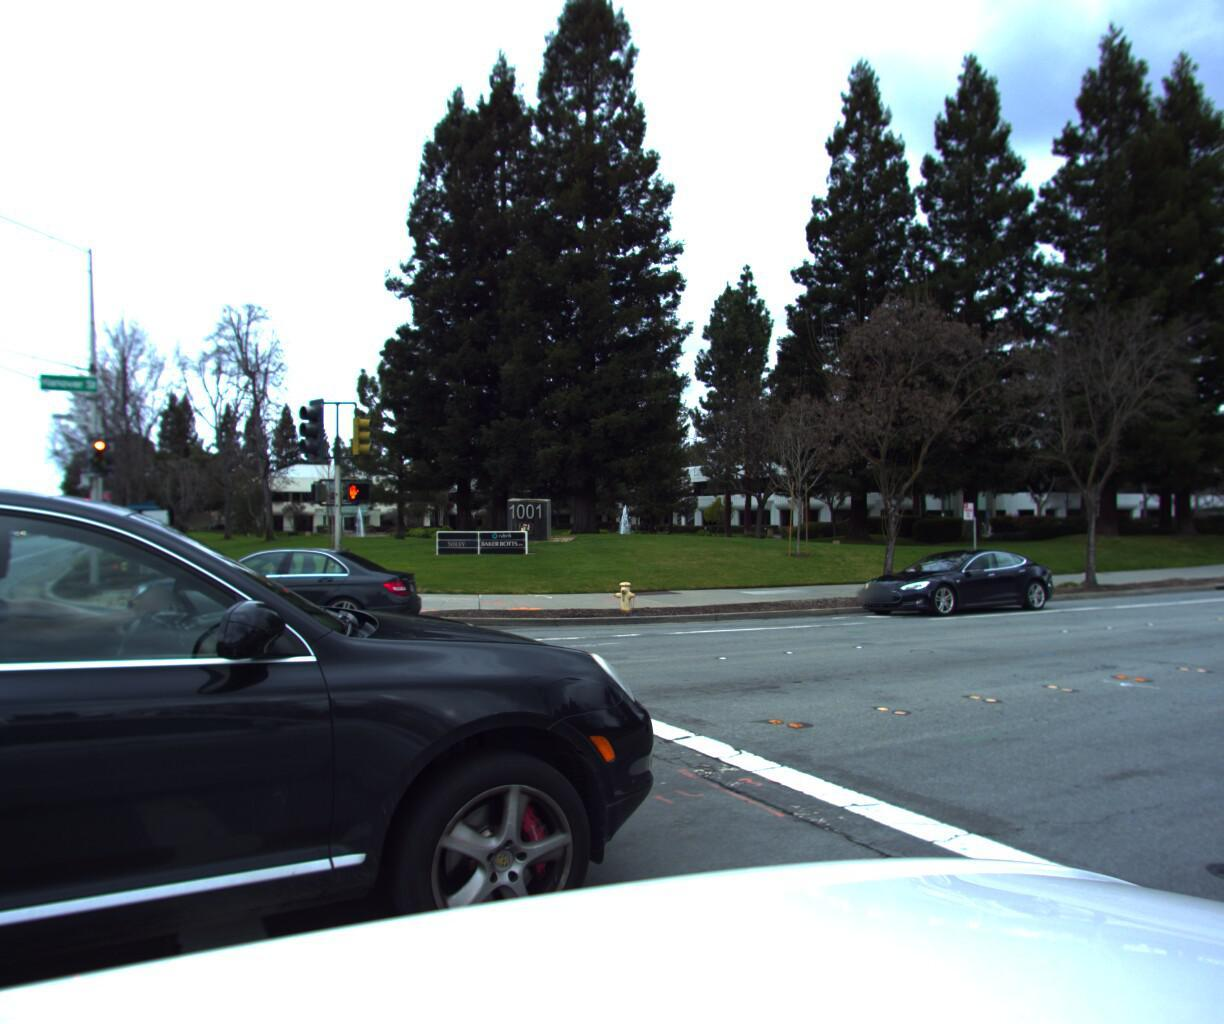car: (0, 376, 679, 1024), (95, 541, 412, 639), (848, 543, 1064, 619)
